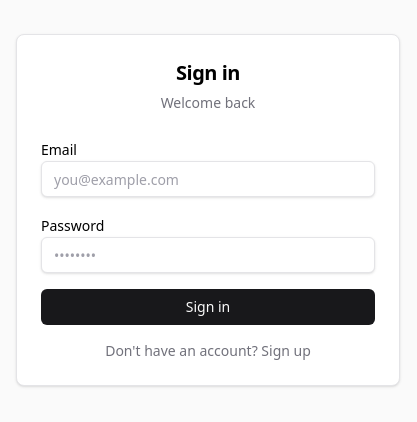
Test: SignInPage › shows an error message on sign in failure
This screenshot has width=417, height=422.
Type "test@example.com" into the field labelled "Email" at [208, 179], box [41,161,375,197]
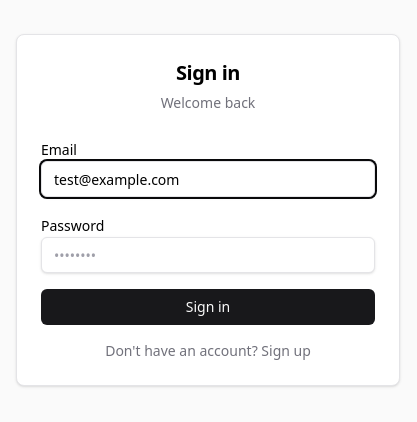
Type "wrongpassword" into the password field labelled "Password" at [208, 255], box [41,237,375,273]
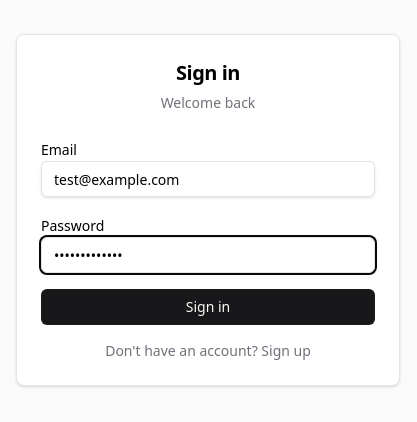
Click the button "Sign in" at [208, 307], box [41,289,375,325]
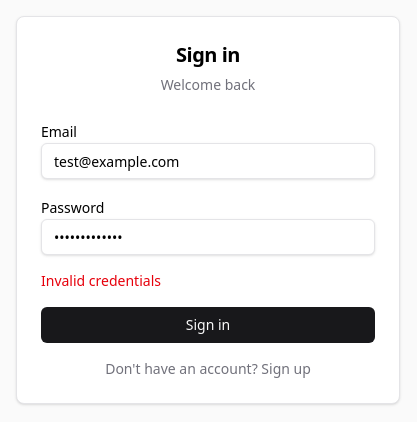
expect the text "Invalid credentials" is shown: met, box [41,271,161,290]
